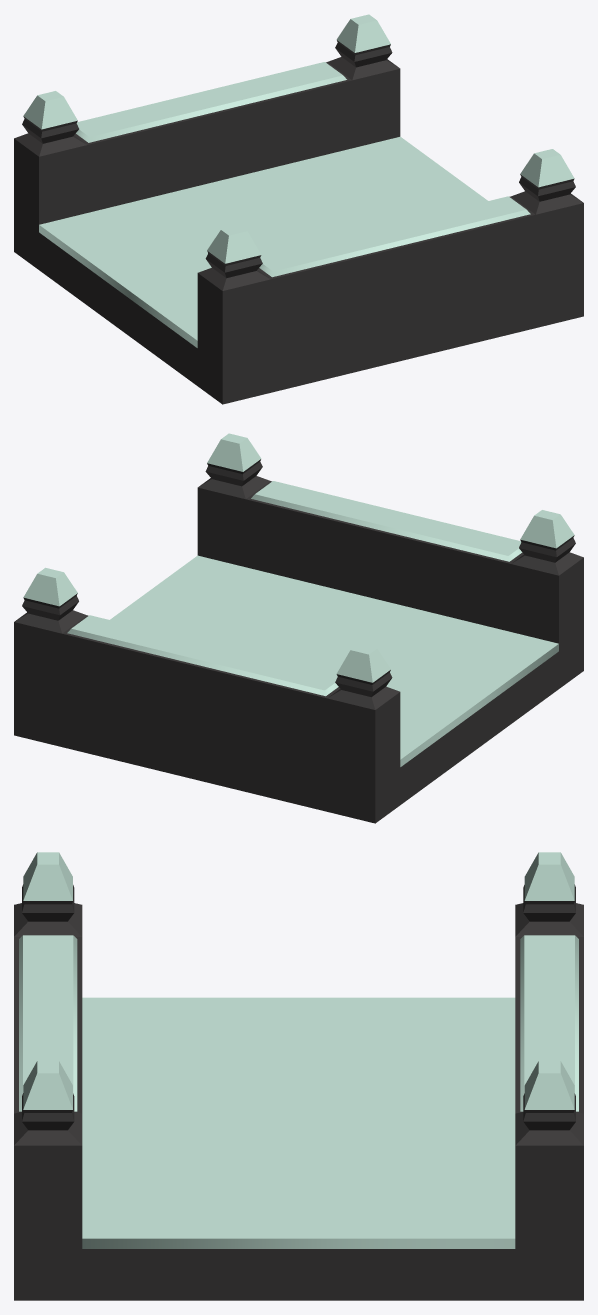
File: winter-bridge-section.glb
3 views of the same model, one above another, from view 1: azimuth 30°, elevation 25°; view 2: azimuth 150°, elevation 25°; view 3: azimuth 270°, elevation 25° (orthographic). The views are drawn at different scales.
Parts seen in each view (by area): view 1: WinterBridge_Section; view 2: WinterBridge_Section; view 3: WinterBridge_Section.
Part boxes in pixels (<box>): WinterBridge_Section: <box>14,14,583,404</box>; WinterBridge_Section: <box>14,433,583,823</box>; WinterBridge_Section: <box>14,852,583,1300</box>.
Size of the model in its own units: 200 by 84.17 by 200.
1 material, 1 textured.
